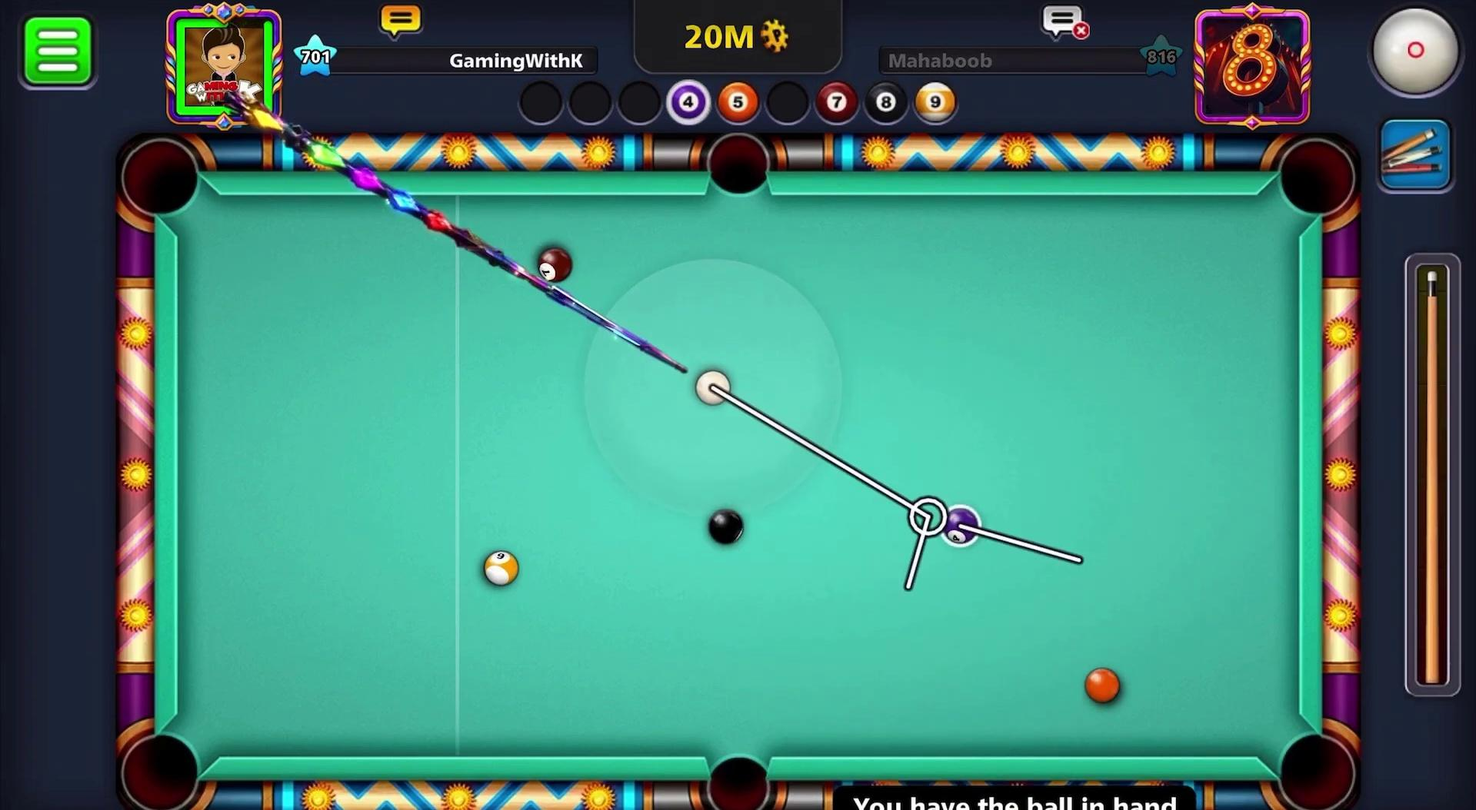Ball: (695, 500, 755, 553), (474, 542, 525, 590), (525, 243, 578, 289), (932, 503, 981, 549), (1079, 664, 1125, 705)
Force: (1394, 249, 1470, 700)
Guideline: (695, 371, 1082, 590)
Hole: (107, 124, 222, 234), (1269, 128, 1367, 231), (1266, 716, 1363, 809), (693, 124, 788, 211), (115, 727, 205, 809), (695, 738, 779, 809)
Play_Area: (169, 185, 1301, 759)
Spin: (1346, 0, 1475, 112)
White: (687, 359, 737, 412)
